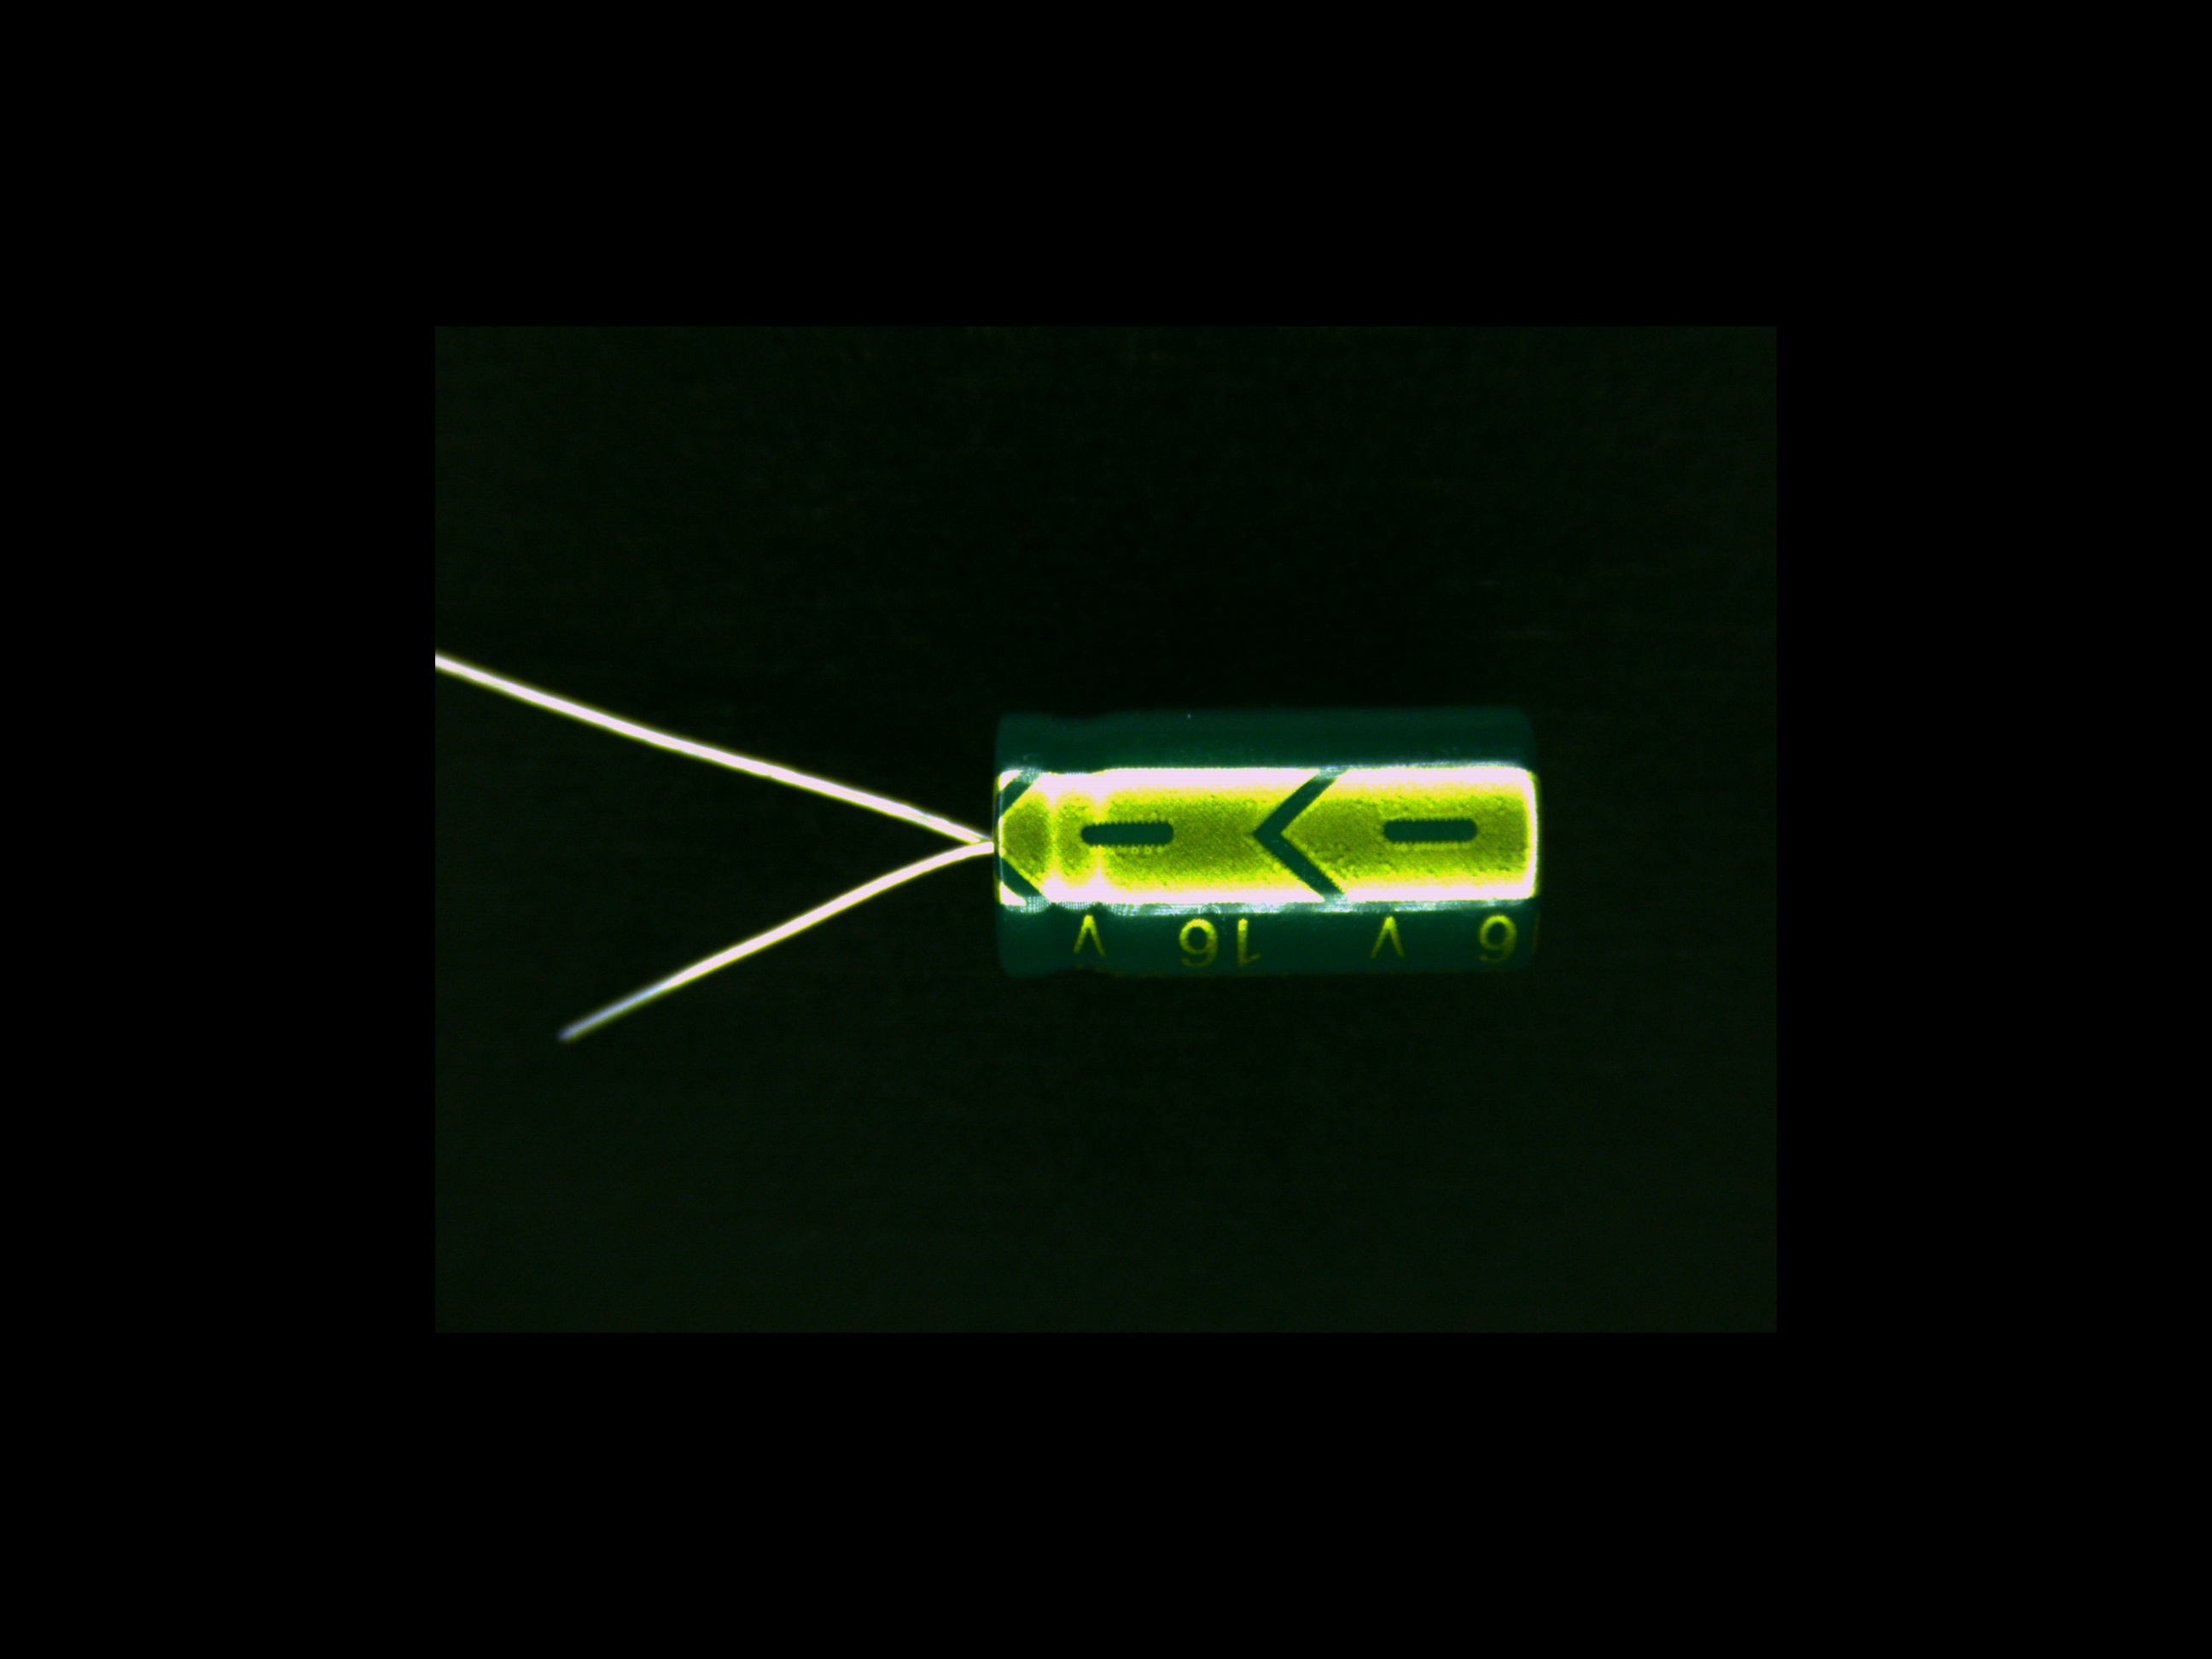c1: (845, 702, 1541, 983)
